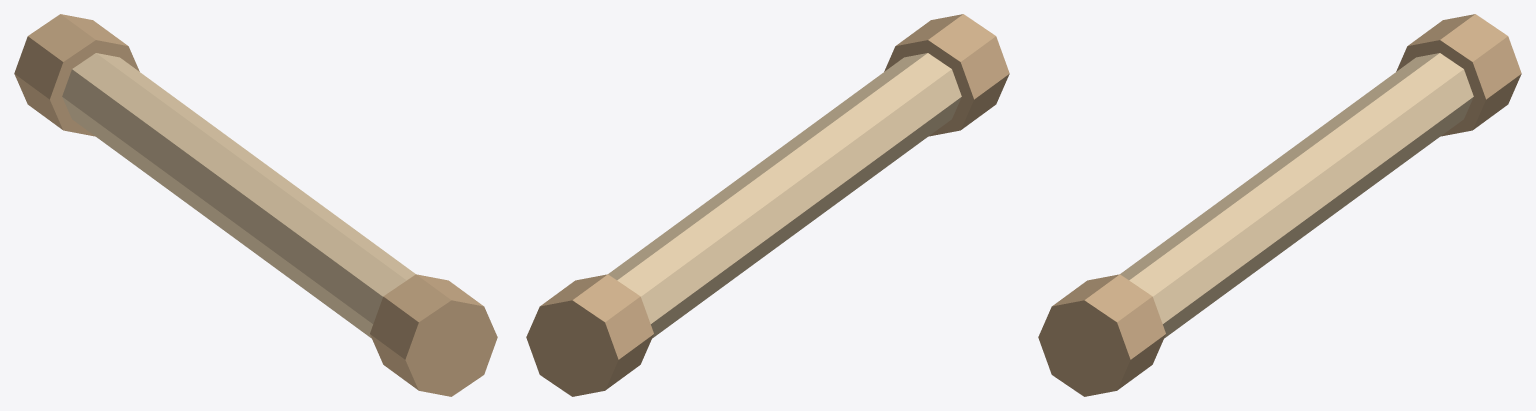
Rendered from item_handle.glb.
The picture shows the model from 3 angles, left to right: view 1: azimuth 30°, elevation 25°; view 2: azimuth 150°, elevation 25°; view 3: azimuth 330°, elevation 25°; orthographic projection.
Parts seen in each view (by area): view 1: wood_light, wood; view 2: wood_light, wood; view 3: wood_light, wood.
Boxes of the visible parts, <box> form: wood_light: <box>62,53,415,338</box>; wood: <box>14,14,497,396</box>; wood_light: <box>608,53,961,338</box>; wood: <box>526,14,1009,396</box>; wood_light: <box>1120,53,1473,338</box>; wood: <box>1038,14,1521,396</box>.
Bounding box in the file's own units: 0.06 × 0.06 × 0.44.
